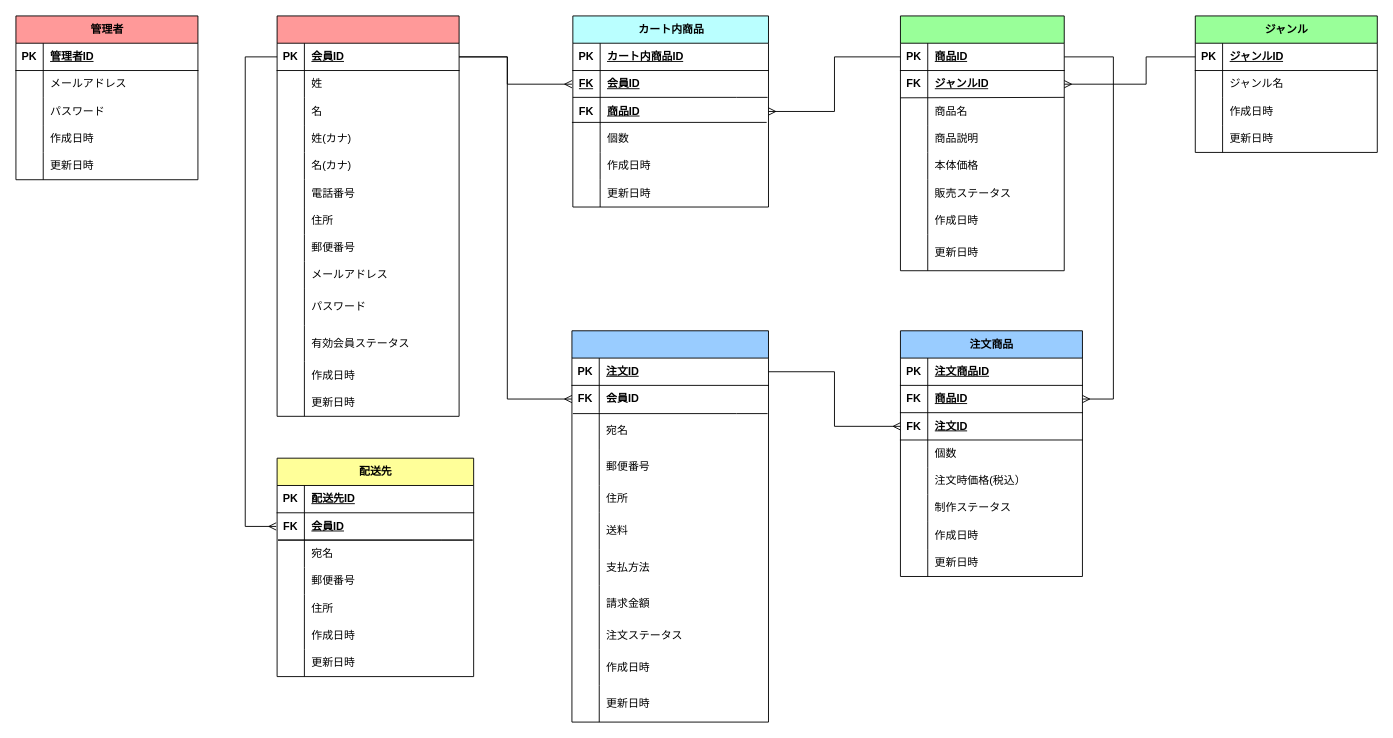
The diagram is 1393 pixels wide and 738 high, and some of its shapes have lost their labels. The box of each missing label's shape, as (x1, y1, x2, y2) in pixels:
会員: (276, 15, 459, 416)
商品: (900, 15, 1064, 271)
注文: (571, 330, 768, 722)
